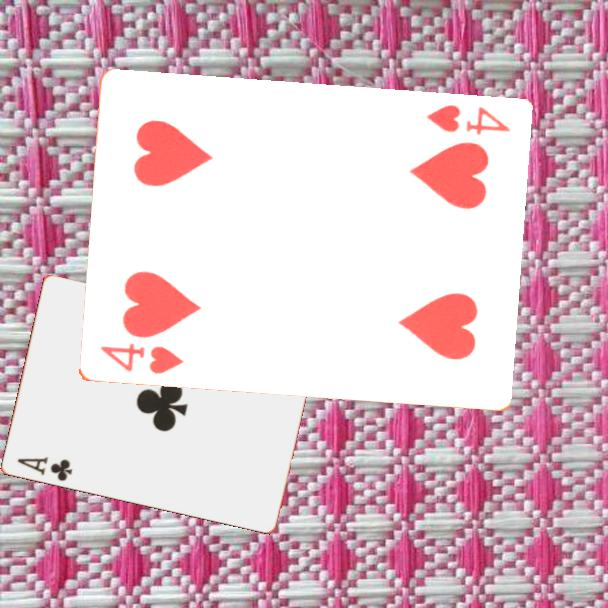c01: (13, 454, 75, 484)
h04: (422, 101, 513, 138), (97, 340, 186, 377)
